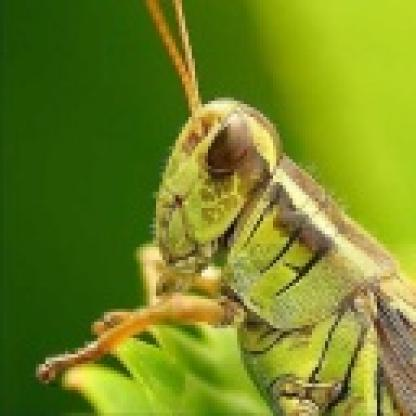grasshopper: (33, 2, 416, 416)
